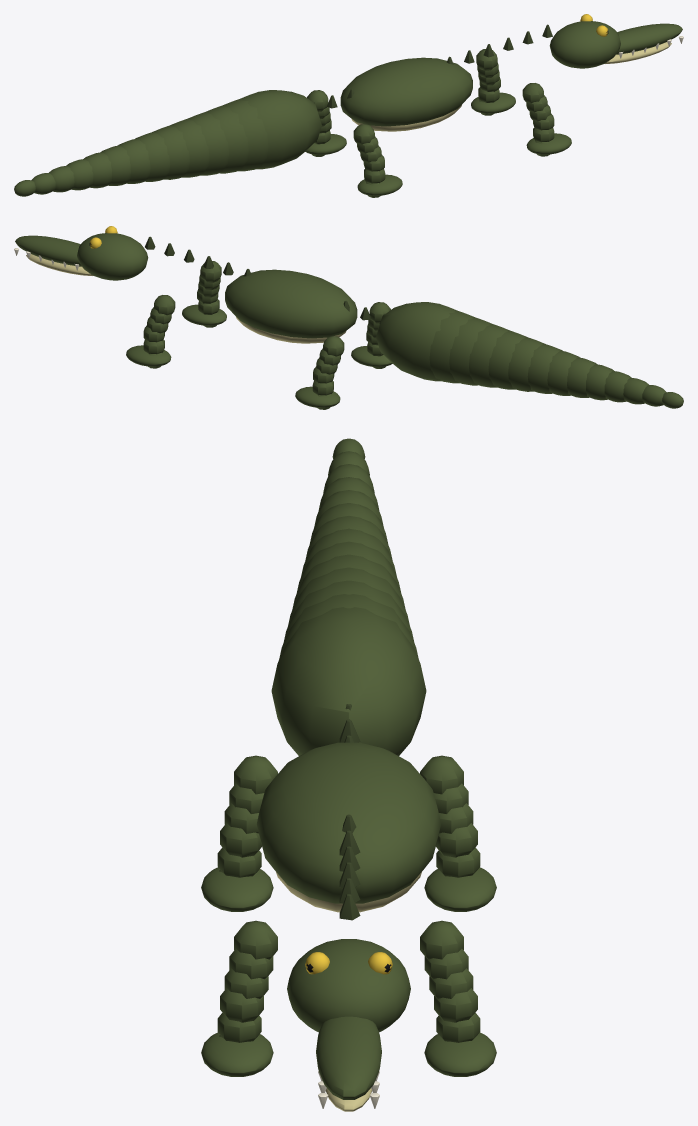
Rendered from crocodilo.glb.
3 renders of one model, top to bottom at view 1: azimuth 30°, elevation 25°; view 2: azimuth 150°, elevation 25°; view 3: azimuth 270°, elevation 25°, orthographic. The views are drawn at different scales.
Visible parts, largest first — view 1: crocodilo; view 2: crocodilo; view 3: crocodilo.
Part boxes in pixels (box(x1,y1,x2,y2)): crocodilo: box(14, 14, 683, 197); crocodilo: box(14, 226, 683, 409); crocodilo: box(201, 438, 496, 1111).
Bounding box in the file's own units: 5.96 × 0.875 × 1.14.
